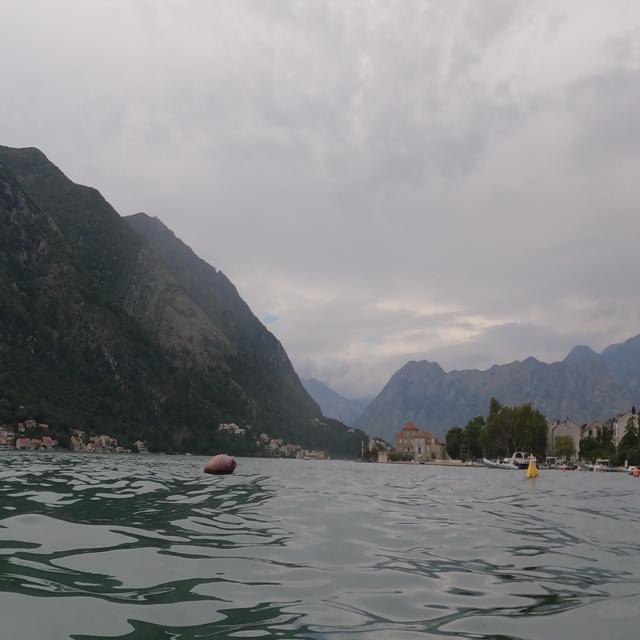boat: (480, 438, 542, 470)
buoy: (199, 449, 247, 483), (526, 457, 544, 492)
